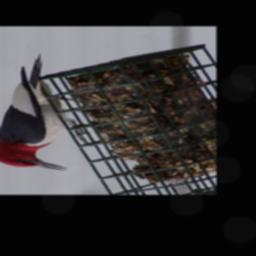Woodpecker: (0, 54, 89, 171)
